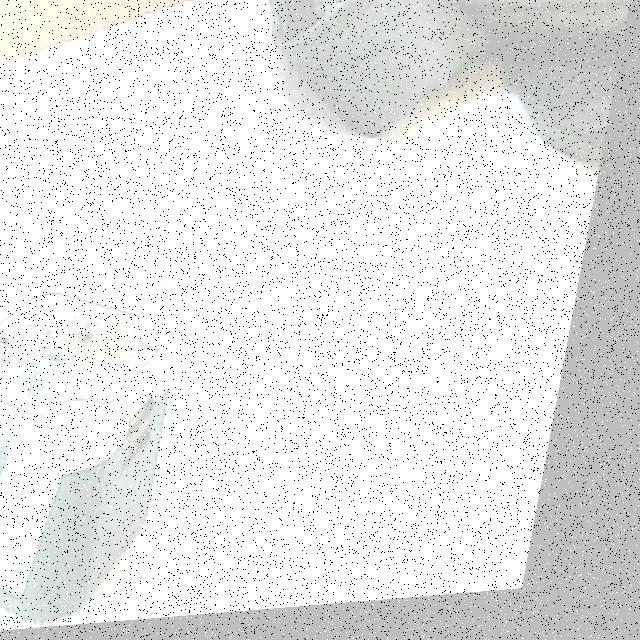adapter: (0, 278, 205, 637)
